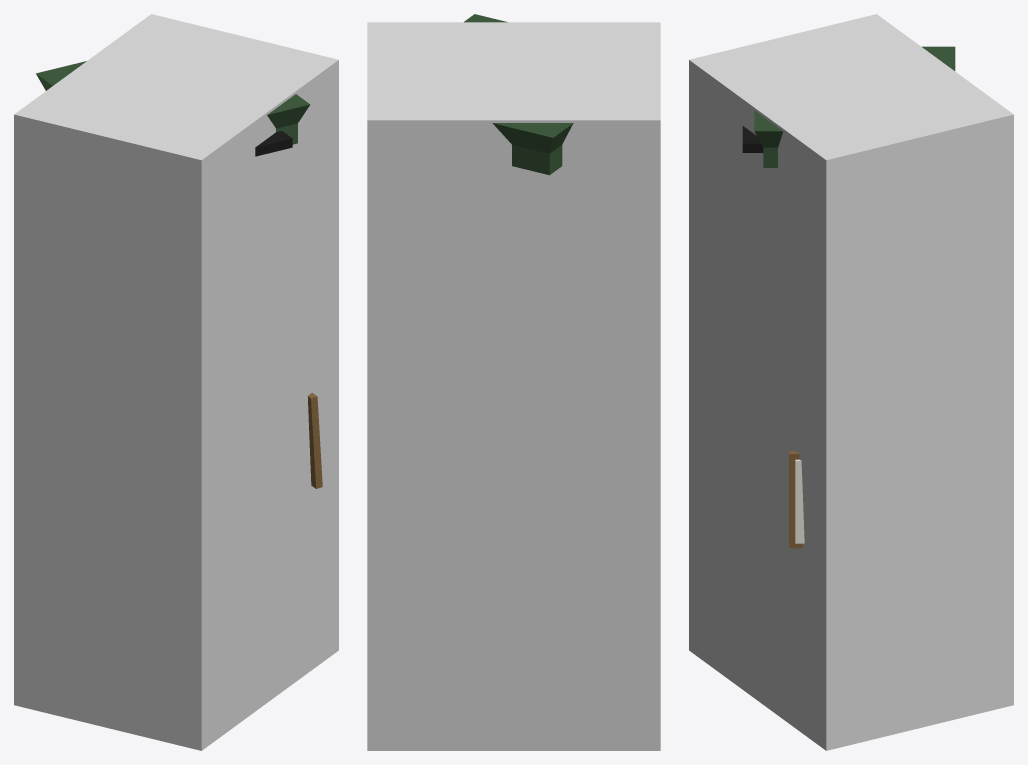
Rendered from npc_quartermaster.fbx.
3 views of the same model, side by side, from view 1: azimuth 30°, elevation 25°; view 2: azimuth 150°, elevation 25°; view 3: azimuth 270°, elevation 25° (orthographic). The views are drawn at different scales.
Parts seen in each view (by area): view 1: Root__0.00_3.00_-0.04__2.53_6.00_1.99, Head__Torso__0.00_4.30_0.00, ArmL__Torso__-0.93_4.07_0.00; view 2: Root__0.00_3.00_-0.04__2.53_6.00_1.99, Head__Torso__0.00_4.30_0.00; view 3: Root__0.00_3.00_-0.04__2.53_6.00_1.99, Head__Torso__0.00_4.30_0.00, ArmL__Torso__-0.93_4.07_0.00.
Part boxes in pixels (box(x1,y1,x2,y2)): Root__0.00_3.00_-0.04__2.53_6.00_1.99: box(14, 14, 338, 750); Head__Torso__0.00_4.30_0.00: box(36, 61, 310, 156); ArmL__Torso__-0.93_4.07_0.00: box(307, 392, 322, 488); Root__0.00_3.00_-0.04__2.53_6.00_1.99: box(367, 22, 660, 750); Head__Torso__0.00_4.30_0.00: box(464, 14, 573, 175); Root__0.00_3.00_-0.04__2.53_6.00_1.99: box(689, 14, 1013, 750); Head__Torso__0.00_4.30_0.00: box(742, 46, 955, 167); ArmL__Torso__-0.93_4.07_0.00: box(789, 451, 804, 548).
Bounding box in the file's own units: 89.23 × 169 × 83.76.
1 material, 1 textured.
